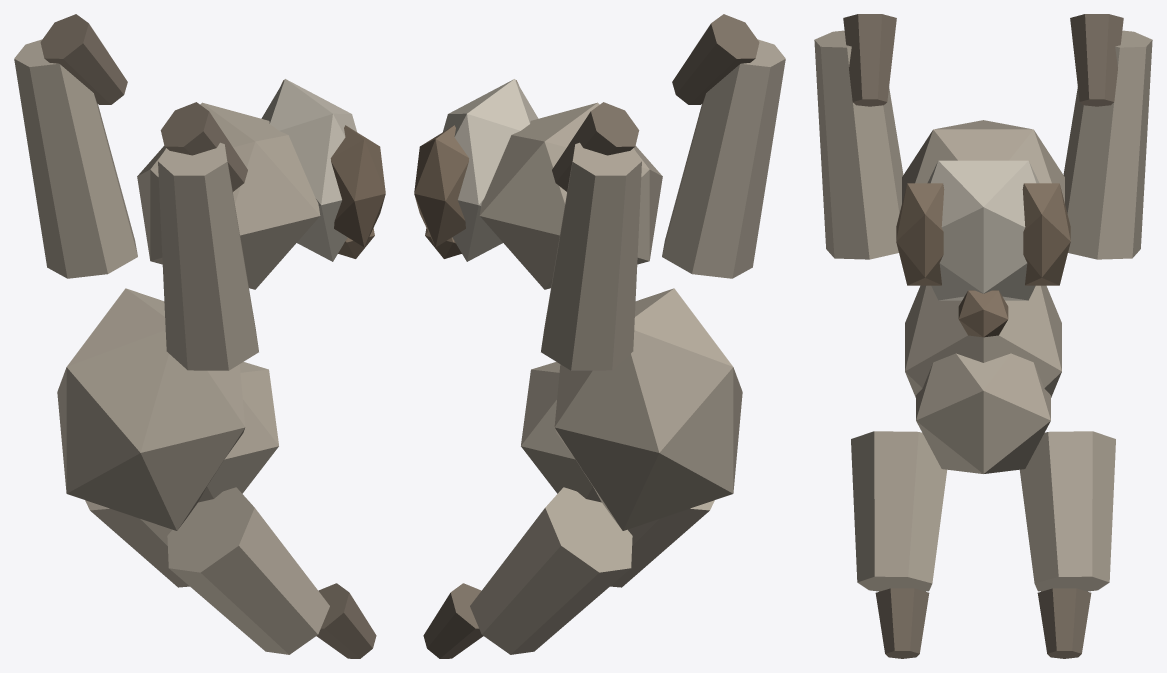
3 renders of one model, left to right at view 1: azimuth 30°, elevation 25°; view 2: azimuth 150°, elevation 25°; view 3: azimuth 270°, elevation 25°, orthographic. The views are drawn at different scales.
Visible parts, largest first — view 1: part0, part7, part9, part13, part2, part3, part1, part5, part8, part10, part14, part11; view 2: part0, part9, part7, part11, part2, part3, part1, part4, part10, part8, part12, part13; view 3: part7, part9, part1, part11, part13, part3, part0, part2, part4, part5, part8, part10 (+3 smaller).
Boxes of the visible parts, <box> form: part0: <box>57,288,245,530</box>; part7: <box>14,39,137,278</box>; part9: <box>158,142,258,370</box>; part13: <box>167,487,329,654</box>; part2: <box>137,102,320,289</box>; part3: <box>261,79,356,261</box>; part1: <box>198,362,278,502</box>; part5: <box>330,125,385,247</box>; part8: <box>40,14,127,104</box>; part10: <box>160,102,247,191</box>; part14: <box>316,583,376,658</box>; part11: <box>85,500,189,587</box>; part0: <box>554,288,742,530</box>; part9: <box>662,39,785,278</box>; part7: <box>541,142,641,370</box>; part11: <box>470,487,632,654</box>; part2: <box>479,102,662,289</box>; part3: <box>443,79,538,261</box>; part1: <box>521,362,601,502</box>; part4: <box>414,125,469,247</box>; part10: <box>672,14,759,104</box>; part8: <box>552,102,639,191</box>; part12: <box>423,583,483,658</box>; part13: <box>610,500,714,587</box>; part7: <box>1063,30,1152,259</box>; part9: <box>814,30,903,259</box>; part1: <box>916,353,1050,473</box>; part11: <box>1019,431,1115,591</box>; part13: <box>851,431,947,591</box>; part3: <box>927,160,1039,300</box>; part0: <box>905,285,1061,397</box>; part2: <box>902,120,1064,203</box>; part4: <box>1022,183,1070,285</box>; part5: <box>896,183,944,285</box>; part8: <box>1070,14,1123,106</box>; part10: <box>843,14,896,106</box>.
Size of the model in its own units: 2.04 by 3.88 by 2.09.
